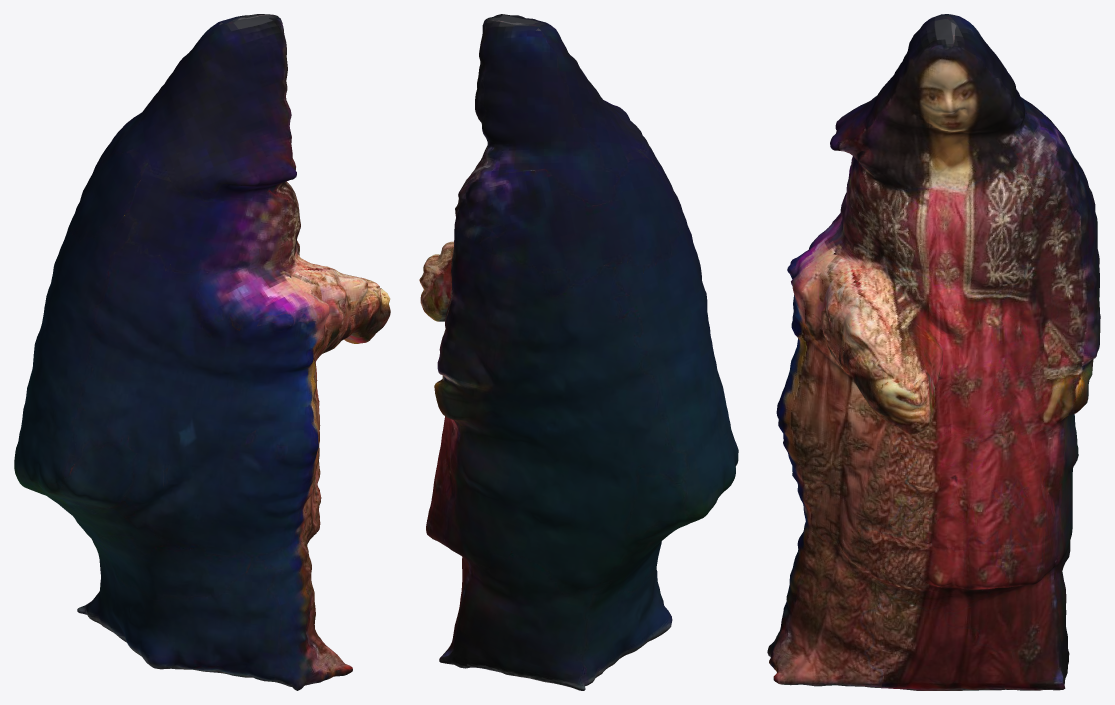
File: vasilikh_0401183540.obj
3 views of the same model, side by side, from view 1: azimuth 30°, elevation 25°; view 2: azimuth 150°, elevation 25°; view 3: azimuth 270°, elevation 25° (orthographic). The views are drawn at different scales.
Parts seen in each view (by area): view 1: Mesh1; view 2: Mesh1; view 3: Mesh1.
Part boxes in pixels (x1,y1,x2,y2): Mesh1: [14, 14, 390, 690]; Mesh1: [419, 14, 738, 690]; Mesh1: [767, 14, 1100, 690].
Size of the model in its own units: 0.6619 by 1.2 by 0.545.
1 material, 1 textured.
